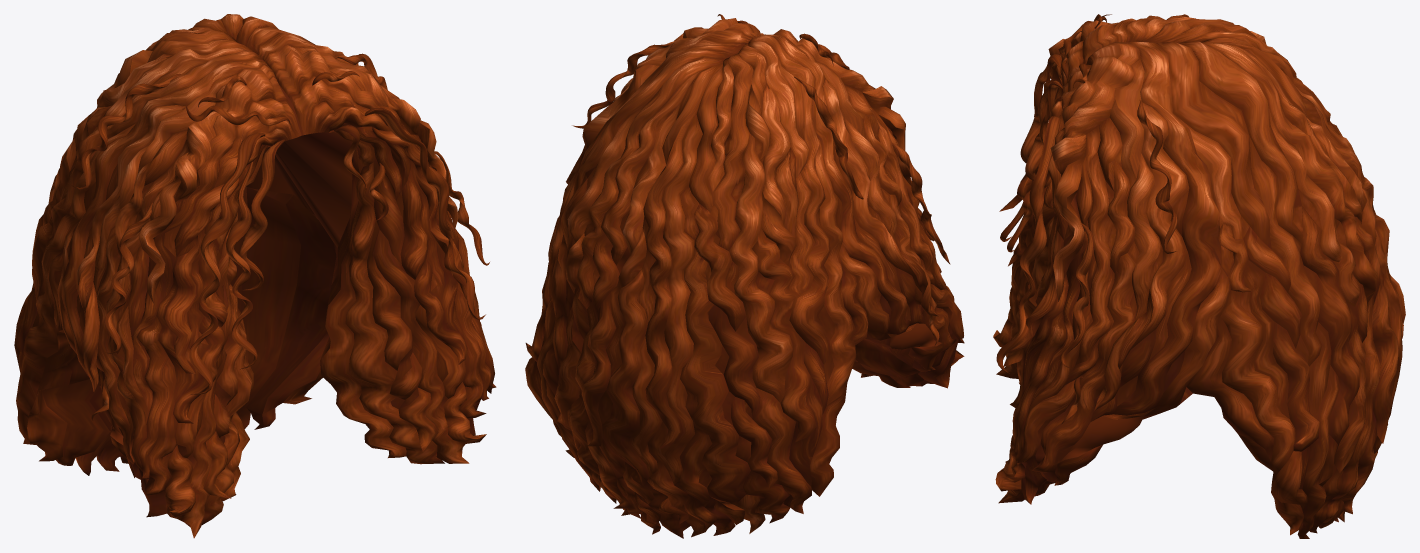
Rendered from curly_nu_3d.glb.
3 renders of one model, left to right at view 1: azimuth 30°, elevation 25°; view 2: azimuth 150°, elevation 25°; view 3: azimuth 270°, elevation 25°, orthographic. The views are drawn at different scales.
Parts seen in each view (by area): view 1: Object_2; view 2: Object_2; view 3: Object_2.
Boxes of the visible parts, bbox=[...] form: Object_2: bbox=[14, 14, 496, 538]; Object_2: bbox=[525, 14, 964, 538]; Object_2: bbox=[993, 14, 1405, 538].
Bounding box in the file's own units: 0.4424 × 0.5272 × 0.4059.
1 material, 1 textured.
